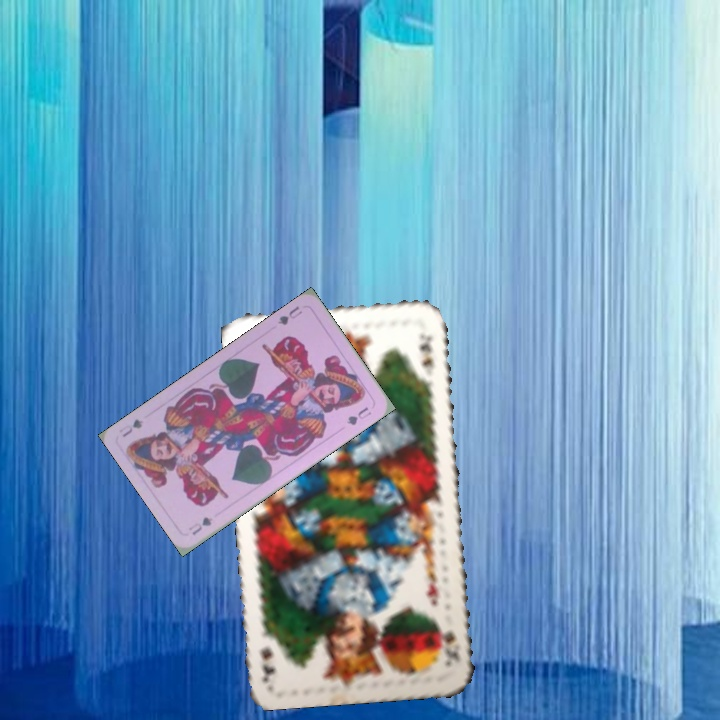GU: (274, 302, 305, 328), (185, 512, 215, 538)
SK: (435, 619, 462, 670)
